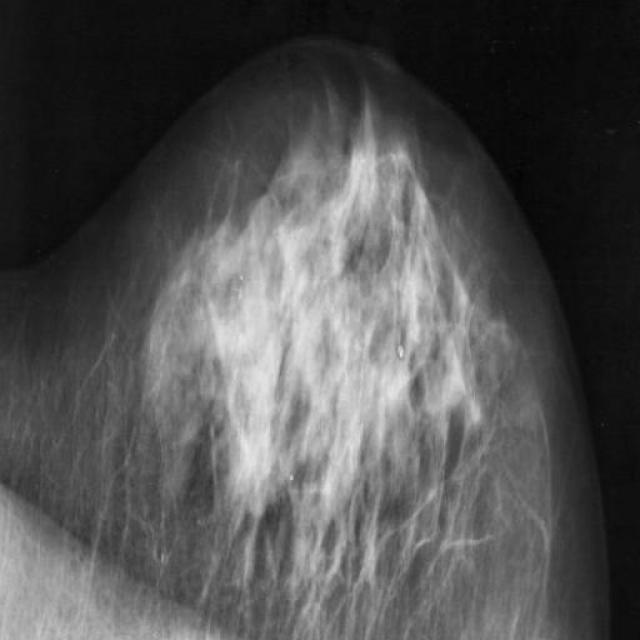cancer: (252, 150, 298, 236)
